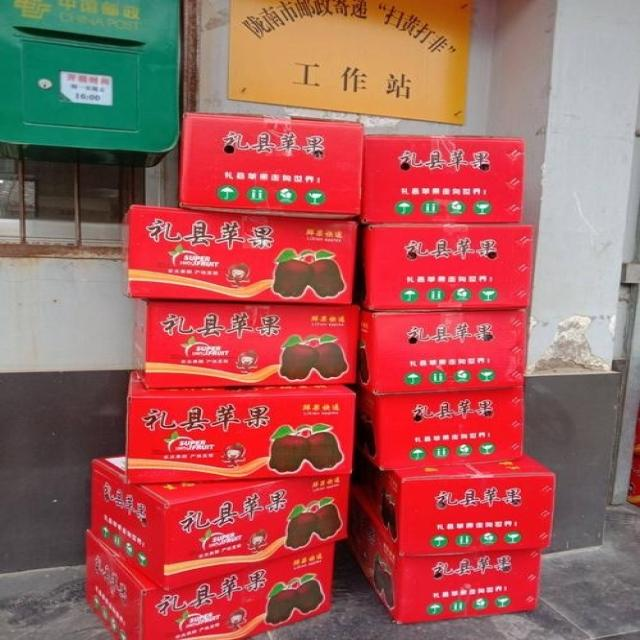box: (90, 454, 350, 591), (0, 0, 179, 167), (85, 529, 337, 640), (348, 486, 540, 623), (126, 371, 356, 485), (120, 204, 358, 305), (349, 445, 556, 556), (129, 299, 358, 389), (178, 112, 364, 219), (353, 223, 535, 312), (344, 384, 524, 470), (357, 308, 526, 395), (361, 134, 525, 223)
